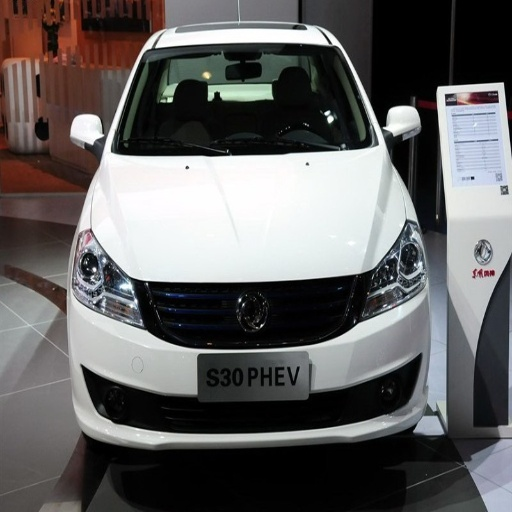front_bumper: (71, 270, 432, 450)
front_right_light: (74, 229, 146, 327)
hood: (94, 147, 402, 280)
left_mirror: (385, 106, 421, 144)
